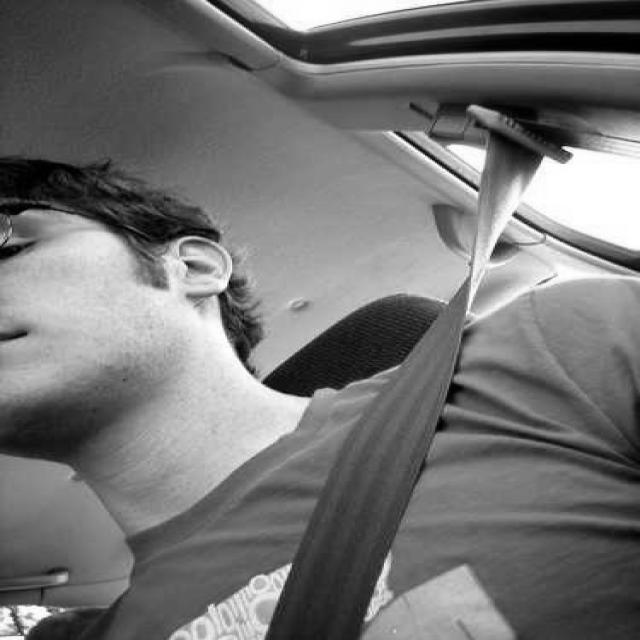Seatbelt: (268, 313, 467, 640)
